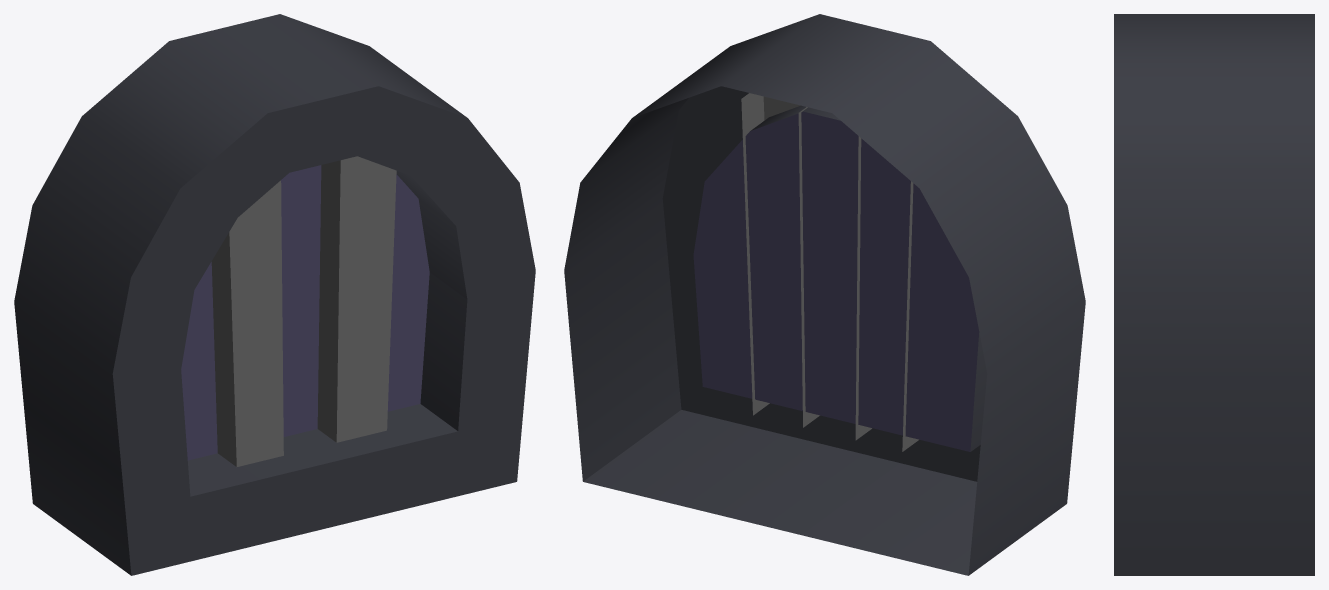
File: cstl_wallWindow_01.fbx
3 renders of one model, left to right at view 1: azimuth 30°, elevation 25°; view 2: azimuth 150°, elevation 25°; view 3: azimuth 270°, elevation 25°, orthographic.
Parts seen in each view (by area): view 1: cstl_wallWindow_01; view 2: cstl_wallWindow_01; view 3: cstl_wallWindow_01.
Boxes of the visible parts, <box> form: cstl_wallWindow_01: <box>14,14,535,575</box>; cstl_wallWindow_01: <box>564,14,1085,575</box>; cstl_wallWindow_01: <box>1114,14,1314,575</box>.
Size of the model in its own units: 50.95 by 49.42 by 20.56.
